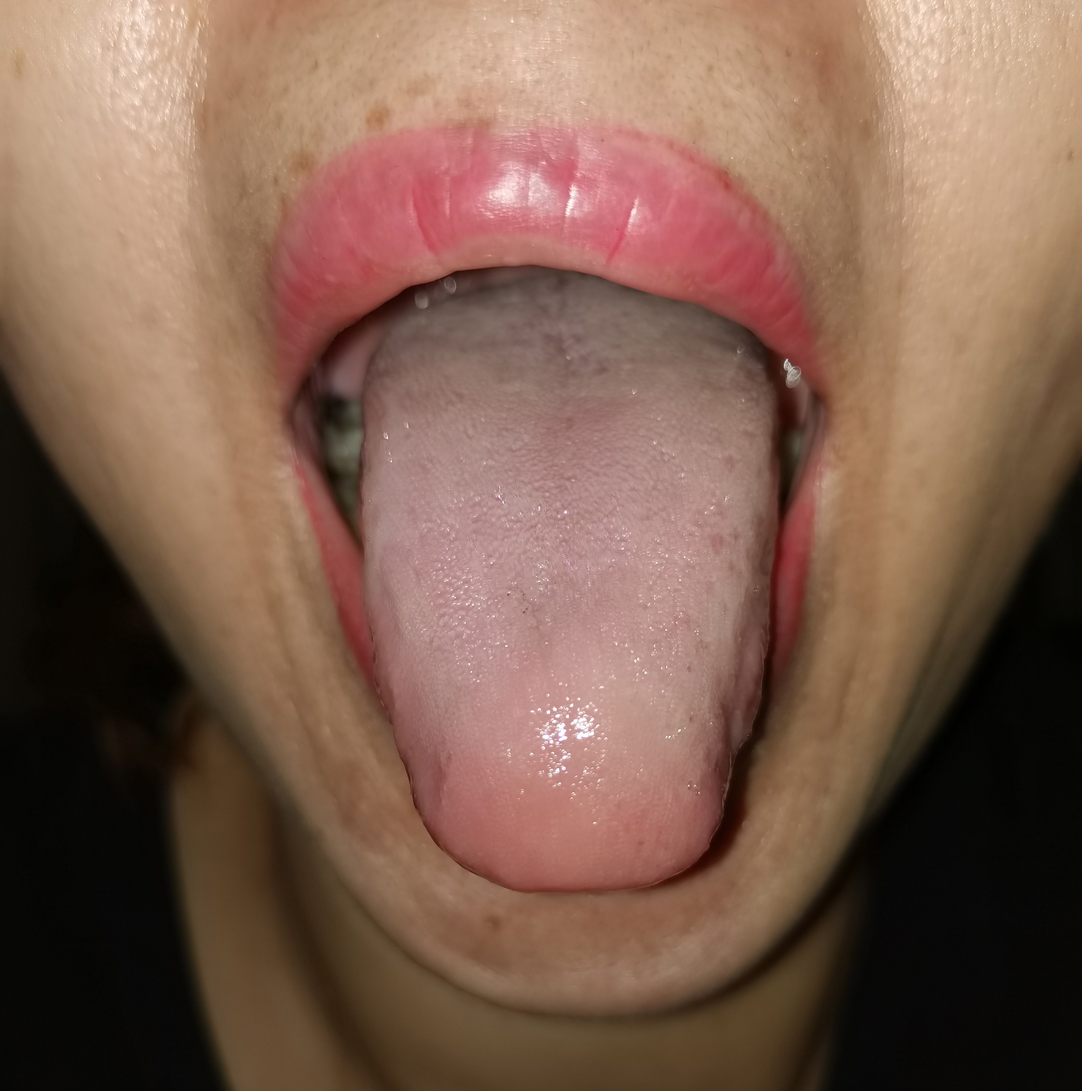baitaishe: (361, 276, 777, 891)
